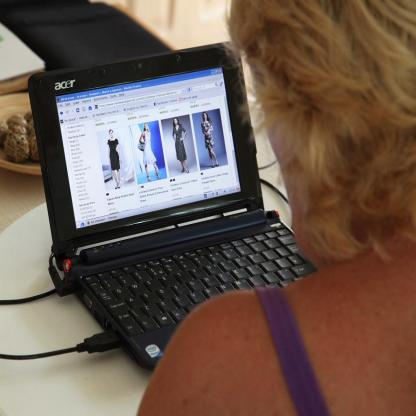board: (26, 40, 320, 372)
